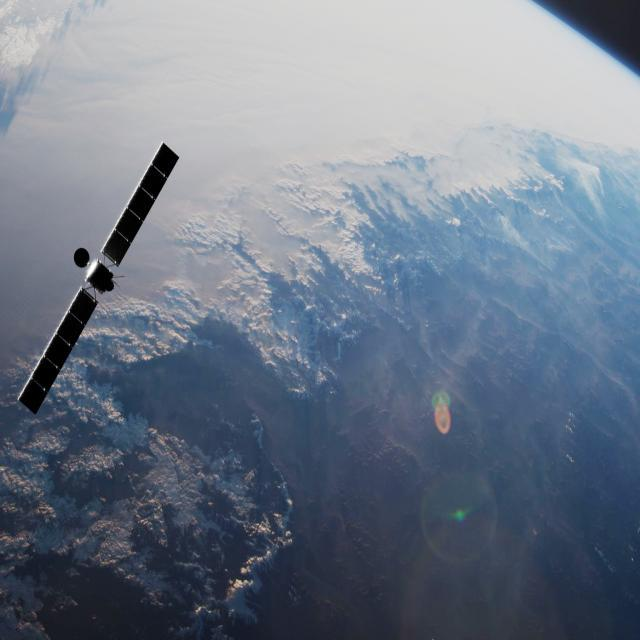satellite: (16, 131, 189, 430)
